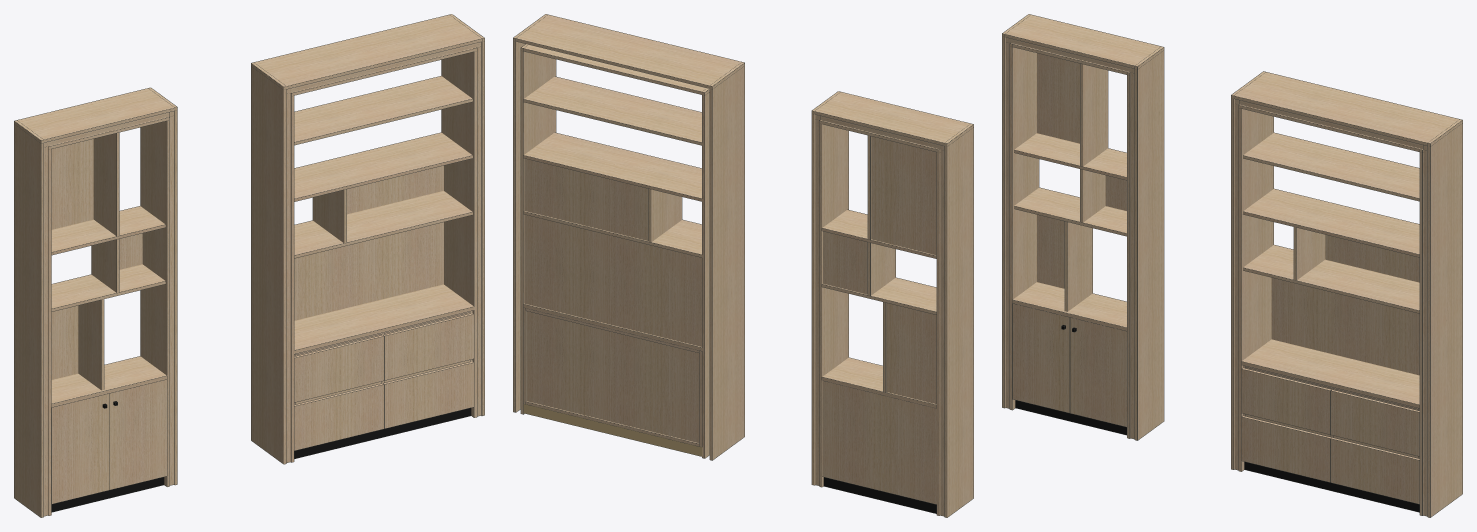
File: modell.glb
3 views of the same model, side by side, from view 1: azimuth 30°, elevation 25°; view 2: azimuth 150°, elevation 25°; view 3: azimuth 330°, elevation 25° (orthographic).
Visible parts, largest first — view 1: 2025-284 Hylle reol; view 2: 2025-284 Hylle reol; view 3: 2025-284 Hylle reol.
Part boxes in pixels (x1,y1,x2,y2): 2025-284 Hylle reol: (14,14,484,517); 2025-284 Hylle reol: (513,14,973,517); 2025-284 Hylle reol: (1002,14,1462,517).
Bounding box in the file's own units: 3403 × 2803 × 442.
Materials: 8 (1 with a texture image).
